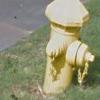Hydrant: (35, 1, 96, 92)
